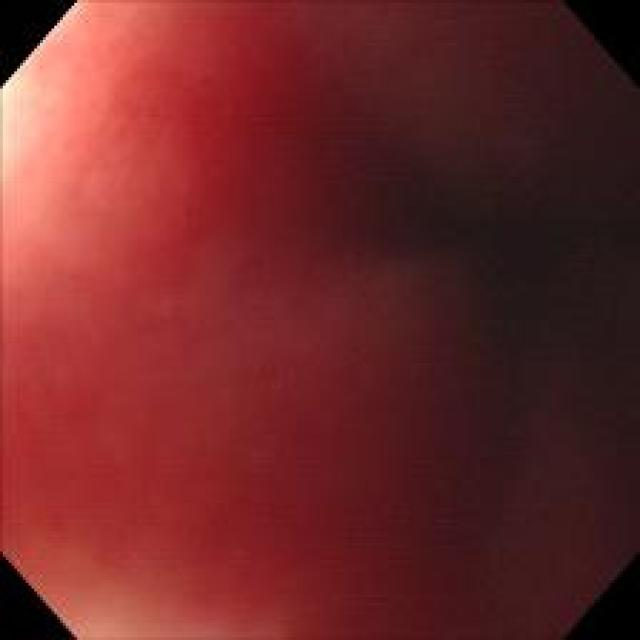blur: (14, 12, 624, 624)
contrast: (324, 80, 611, 425)
